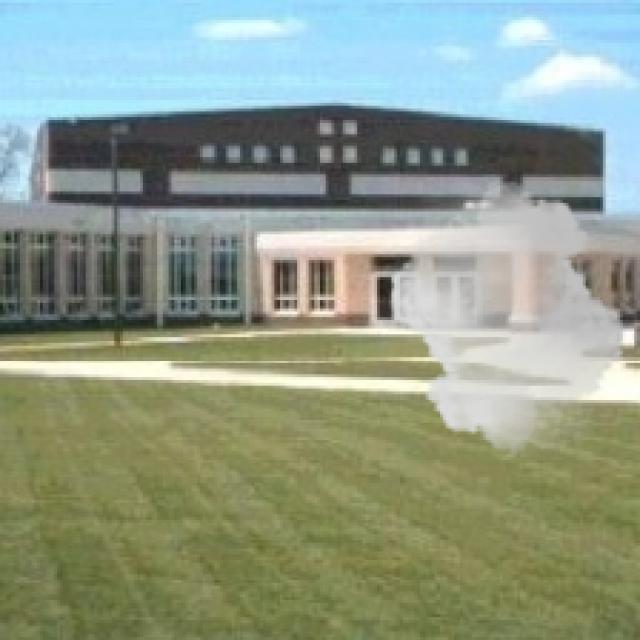Smoke: (380, 174, 634, 457)
